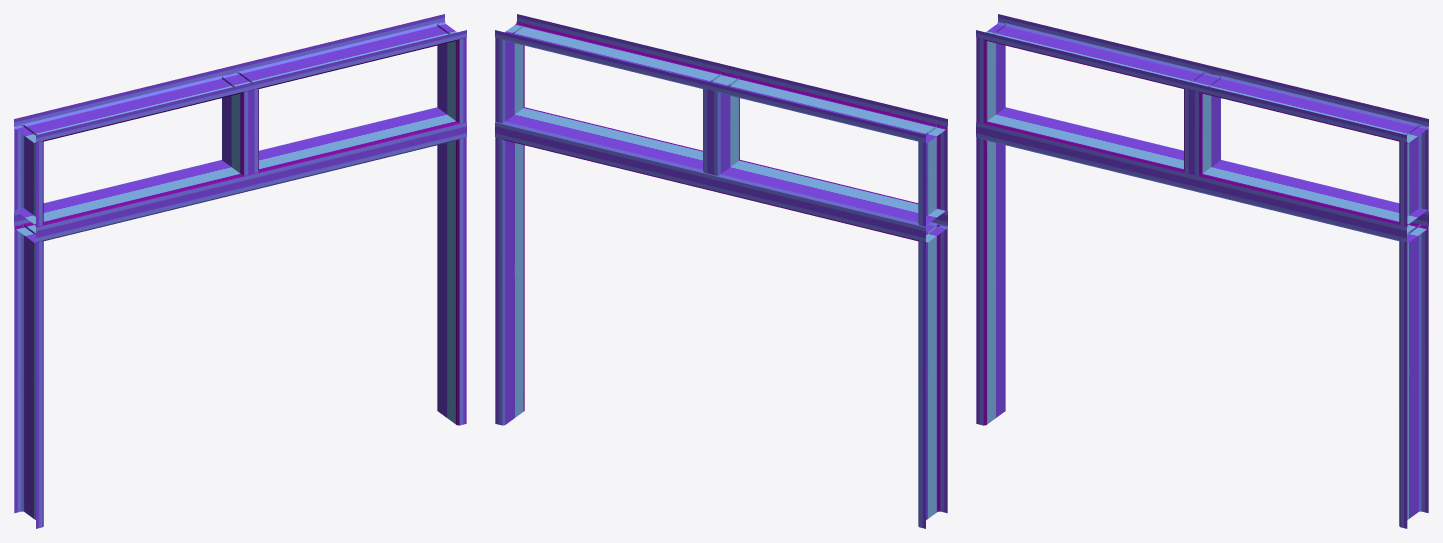
File: sm_wall_door_frame_01.fbx
3 views of the same model, side by side, from view 1: azimuth 30°, elevation 25°; view 2: azimuth 150°, elevation 25°; view 3: azimuth 330°, elevation 25° (orthographic).
Visible parts, largest first — view 1: sm_wall_door_frame_01; view 2: sm_wall_door_frame_01; view 3: sm_wall_door_frame_01.
Part boxes in pixels (x1,y1,x2,y2): sm_wall_door_frame_01: (14, 14, 466, 528); sm_wall_door_frame_01: (495, 14, 947, 528); sm_wall_door_frame_01: (976, 14, 1428, 528).
Size of the model in its own units: 312 by 272 by 27.47.
